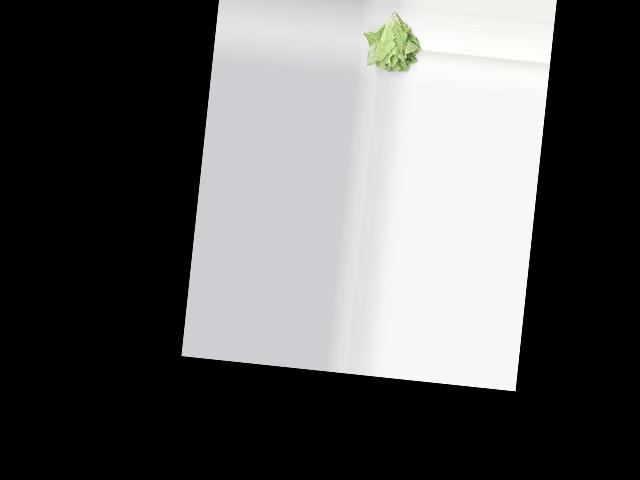lettuce: (365, 7, 423, 77)
